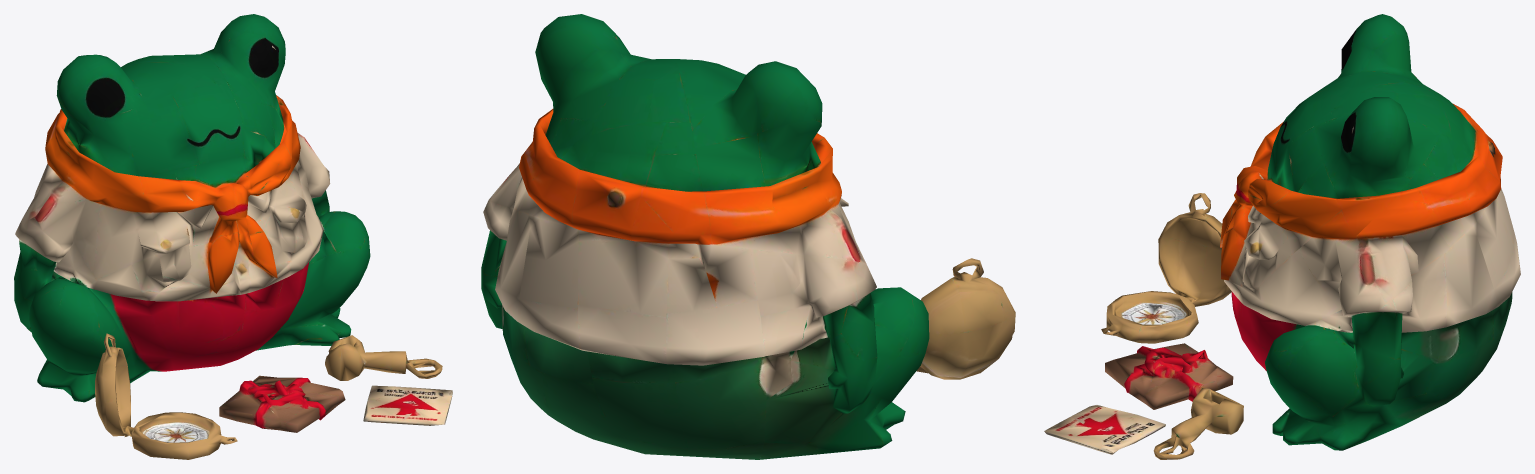
Rendered from boussole.glb.
3 renders of one model, left to right at view 1: azimuth 30°, elevation 25°; view 2: azimuth 150°, elevation 25°; view 3: azimuth 270°, elevation 25°, orthographic. The views are drawn at different scales.
Visible parts, largest first — view 1: mesh_node; view 2: mesh_node; view 3: mesh_node.
Part boxes in pixels (<box>): mesh_node: <box>14,14,452,459</box>; mesh_node: <box>481,14,1015,459</box>; mesh_node: <box>1044,14,1520,459</box>.
Size of the model in its own units: 1.63 by 1.39 by 1.88.
1 material, 1 textured.
